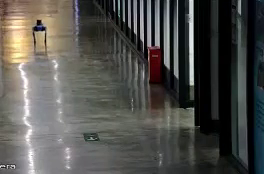robot dog: (35, 29, 54, 63)
